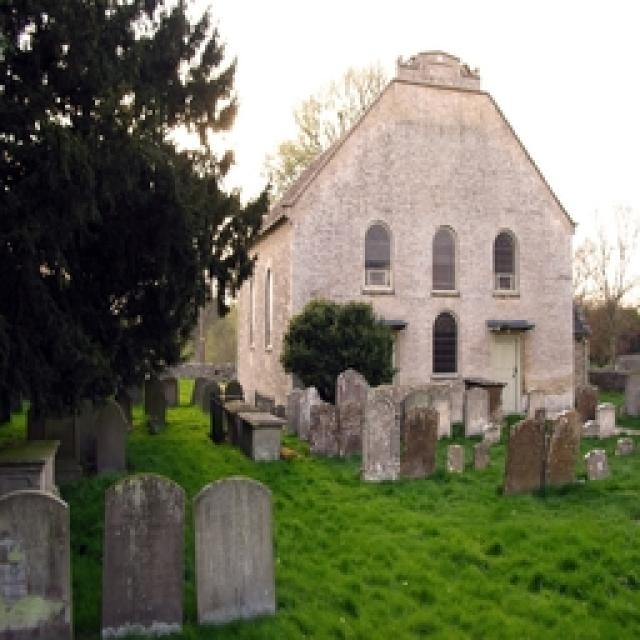Abbey: (229, 46, 584, 436)
